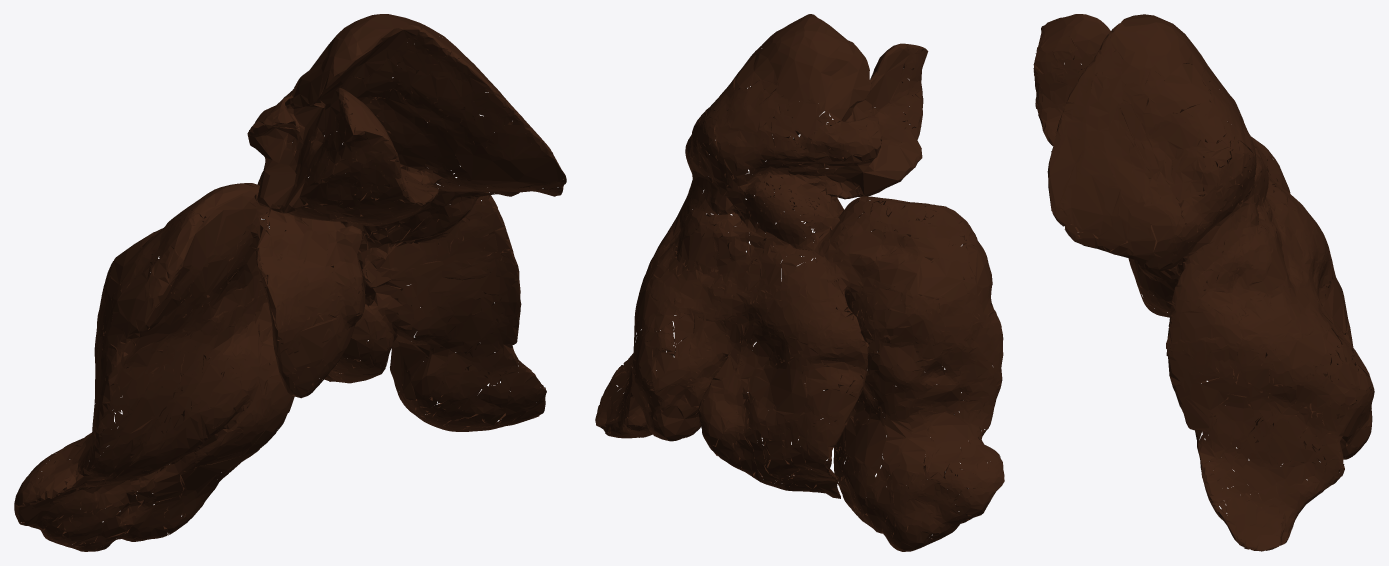
The model's file is chien_foie.glb.
3 renders of one model, left to right at view 1: azimuth 30°, elevation 25°; view 2: azimuth 150°, elevation 25°; view 3: azimuth 270°, elevation 25°, orthographic. The views are drawn at different scales.
Visible parts, largest first — view 1: Object_9, Object_3, Object_7, Object_4, Object_8, Object_2, Object_10, Object_6, Object_5; view 2: Object_6, Object_2, Object_8, Object_4, Object_5, Object_10, Object_9, Object_3, Object_7; view 3: Object_9, Object_7, Object_6, Object_10, Object_2, Object_8, Object_4, Object_5, Object_3.
Boxes of the visible parts, left/top/right/bottom form: Object_9: left=41, top=27, right=565, bottom=548; Object_3: left=15, top=234, right=518, bottom=533; Object_7: left=39, top=77, right=566, bottom=546; Object_4: left=23, top=233, right=541, bottom=522; Object_8: left=76, top=75, right=514, bottom=550; Object_2: left=14, top=218, right=538, bottom=551; Object_10: left=22, top=14, right=552, bottom=526; Object_6: left=14, top=78, right=566, bottom=549; Object_5: left=29, top=236, right=546, bottom=551; Object_6: left=597, top=108, right=998, bottom=546; Object_2: left=600, top=233, right=1004, bottom=551; Object_8: left=644, top=106, right=994, bottom=550; Object_4: left=627, top=276, right=1002, bottom=522; Object_5: left=595, top=251, right=1000, bottom=551; Object_10: left=596, top=14, right=975, bottom=521; Object_9: left=610, top=15, right=963, bottom=538; Object_3: left=632, top=234, right=1004, bottom=522; Object_7: left=659, top=87, right=975, bottom=551; Object_9: left=1033, top=14, right=1313, bottom=537; Object_7: left=1043, top=109, right=1289, bottom=354; Object_6: left=1052, top=103, right=1349, bottom=549; Object_10: left=1033, top=14, right=1290, bottom=551; Object_2: left=1142, top=167, right=1373, bottom=548; Object_8: left=1043, top=94, right=1327, bottom=352; Object_4: left=1129, top=262, right=1374, bottom=535; Object_5: left=1188, top=331, right=1374, bottom=551; Object_3: left=1128, top=155, right=1371, bottom=469.
Size of the model in its own units: 230 by 234 by 148.
